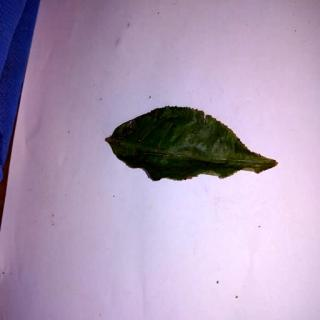Bird Eye Spot: (106, 107, 278, 183)
